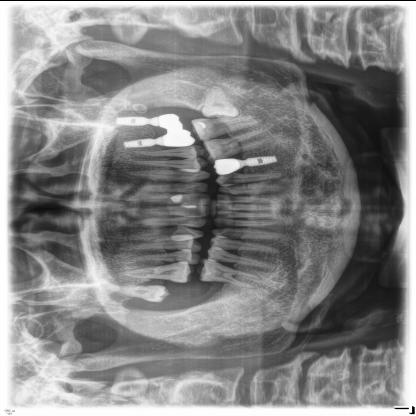Bicon: (234, 150, 284, 171), (107, 110, 164, 128), (121, 133, 170, 150)
